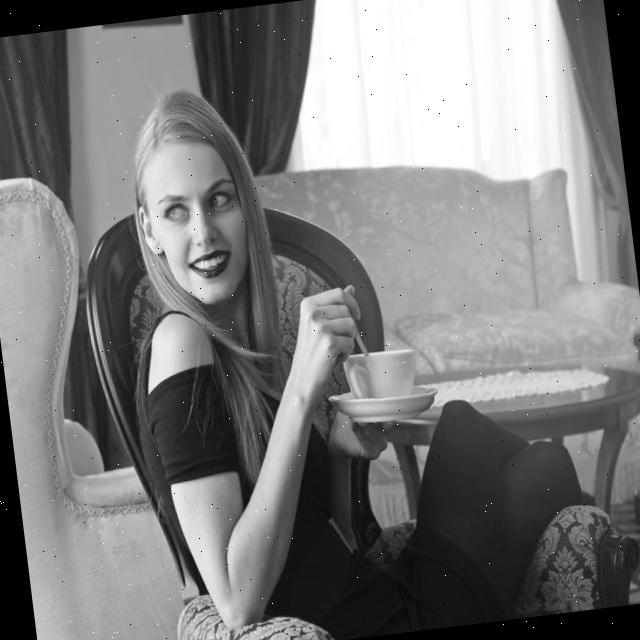Happiness: (128, 128, 262, 316)
